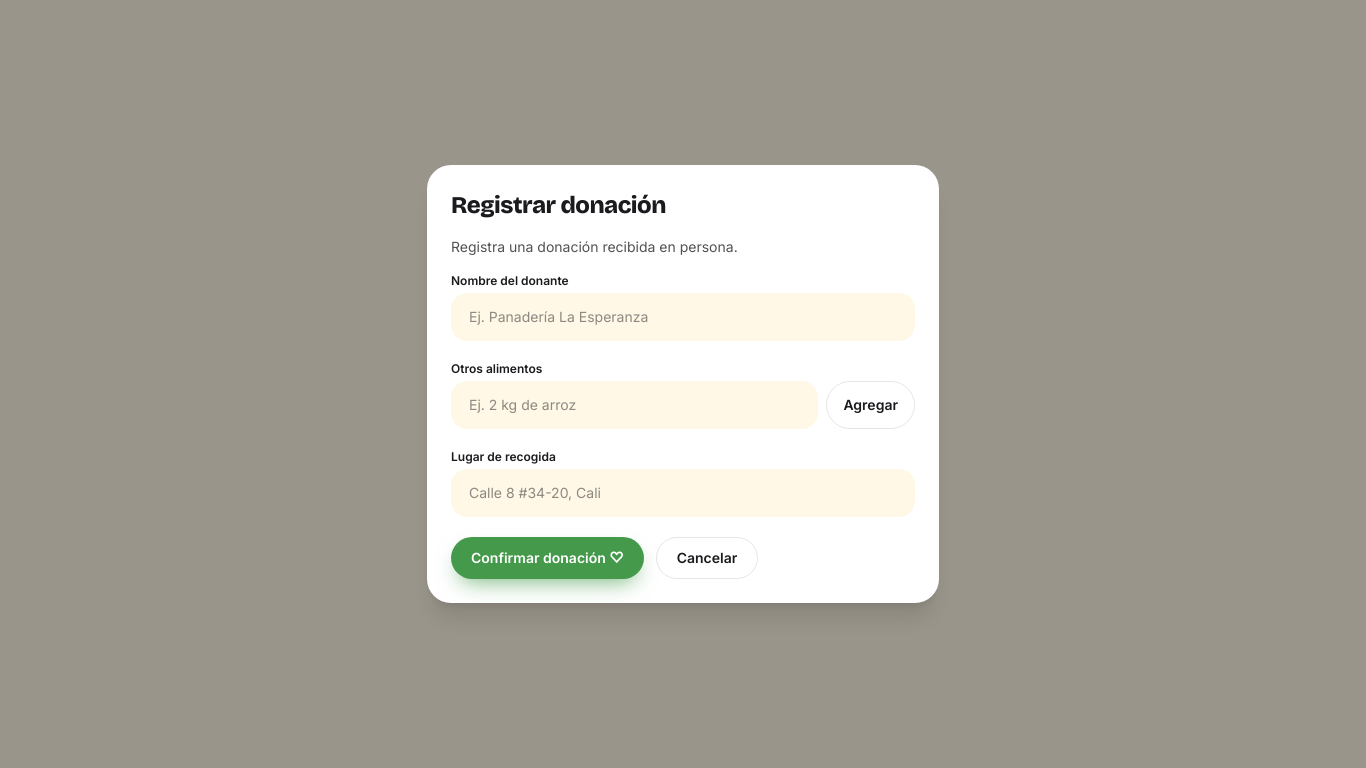
Test: submits the donation with the donor name, shows the toast and closes
Type "Ana" into the field labelled "Nombre del donante" at point(683, 317), box [451,293,915,341]
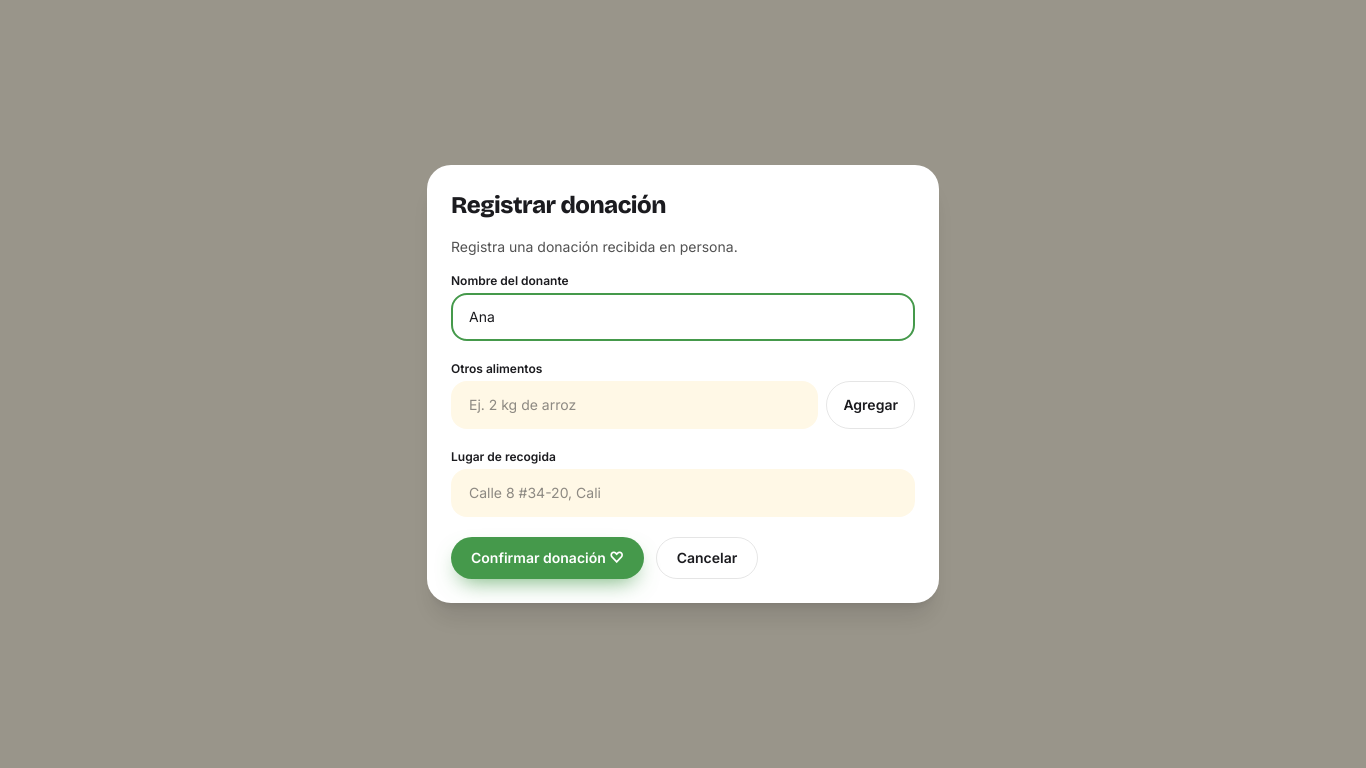
Type "Arroz" into the field labelled "Otros alimentos" at point(635, 405), box [451,381,818,429]
Then press Enter
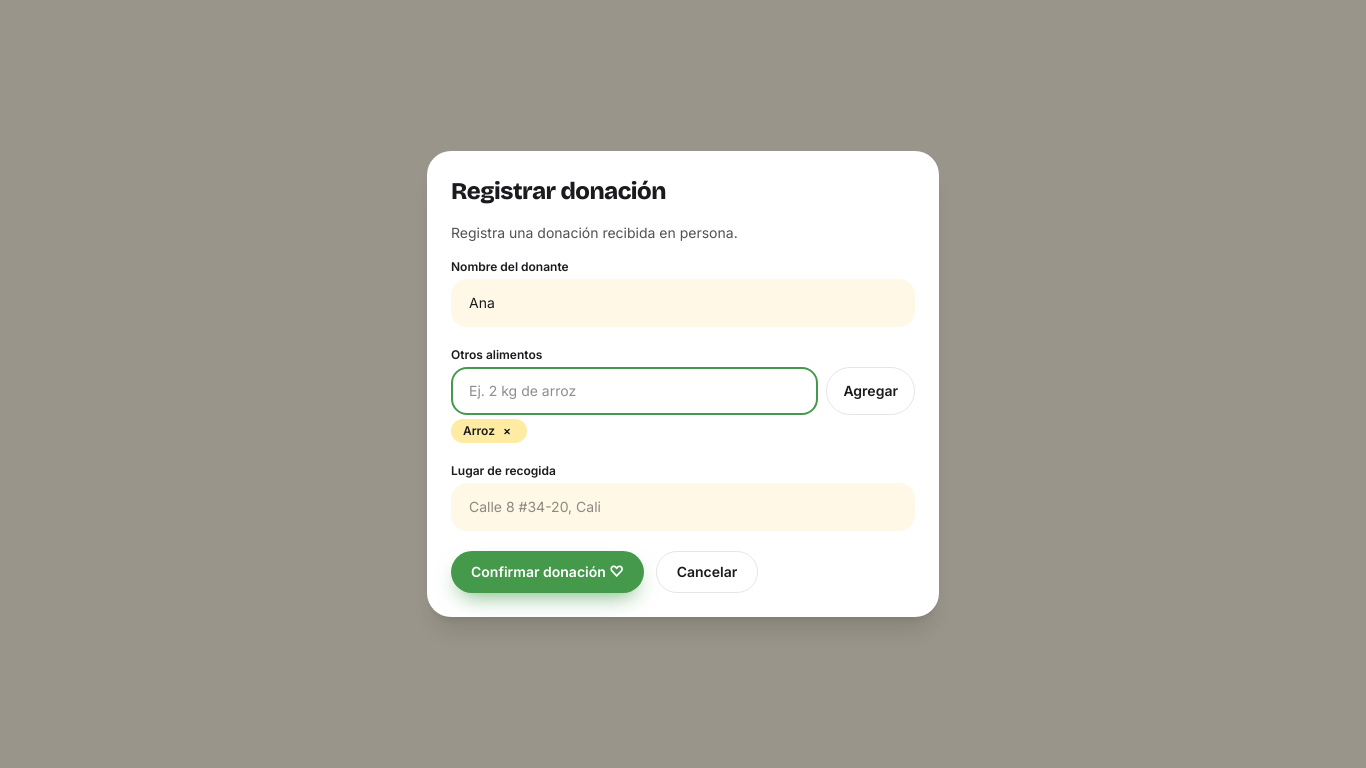
Type "Cali" into the field labelled "Lugar de recogida" at point(683, 507), box [451,483,915,531]
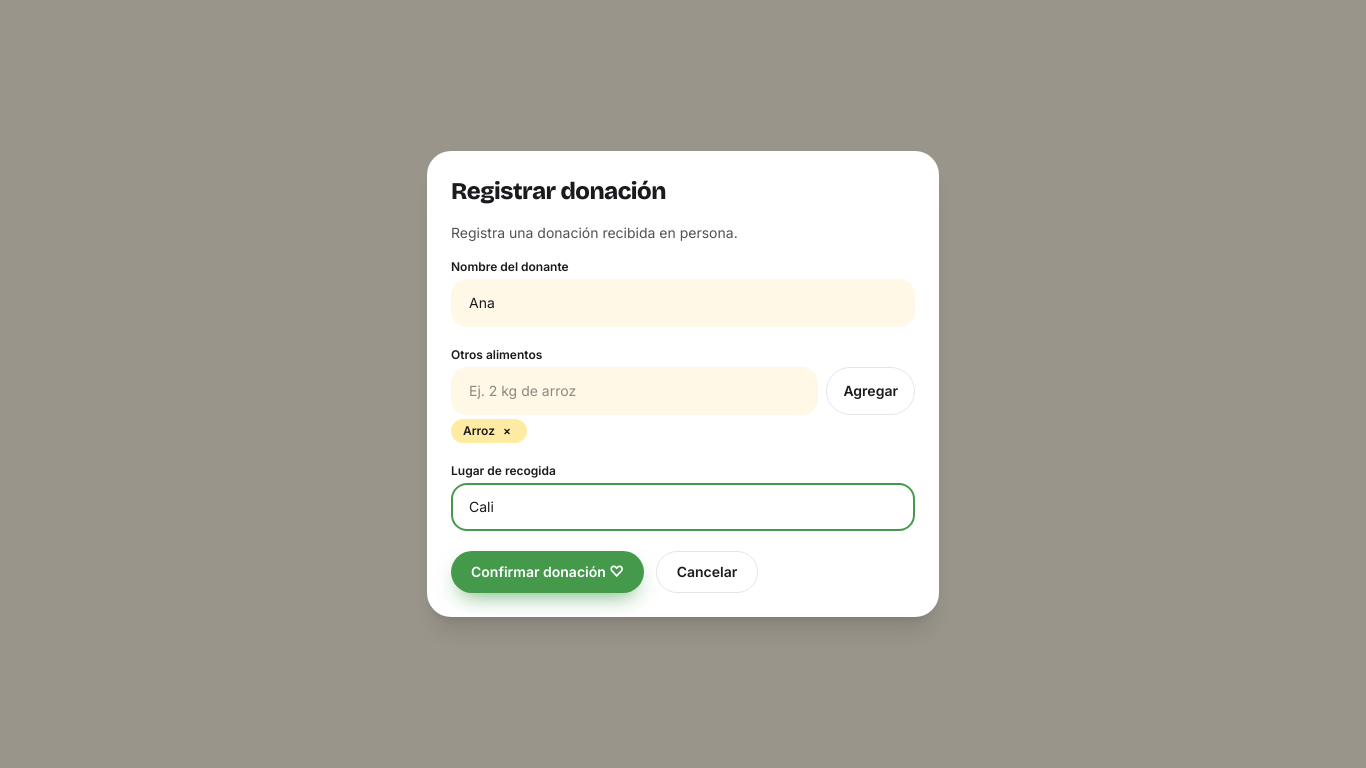
Click the button "Confirmar donación ♡" at point(547, 572), box [451,551,644,593]
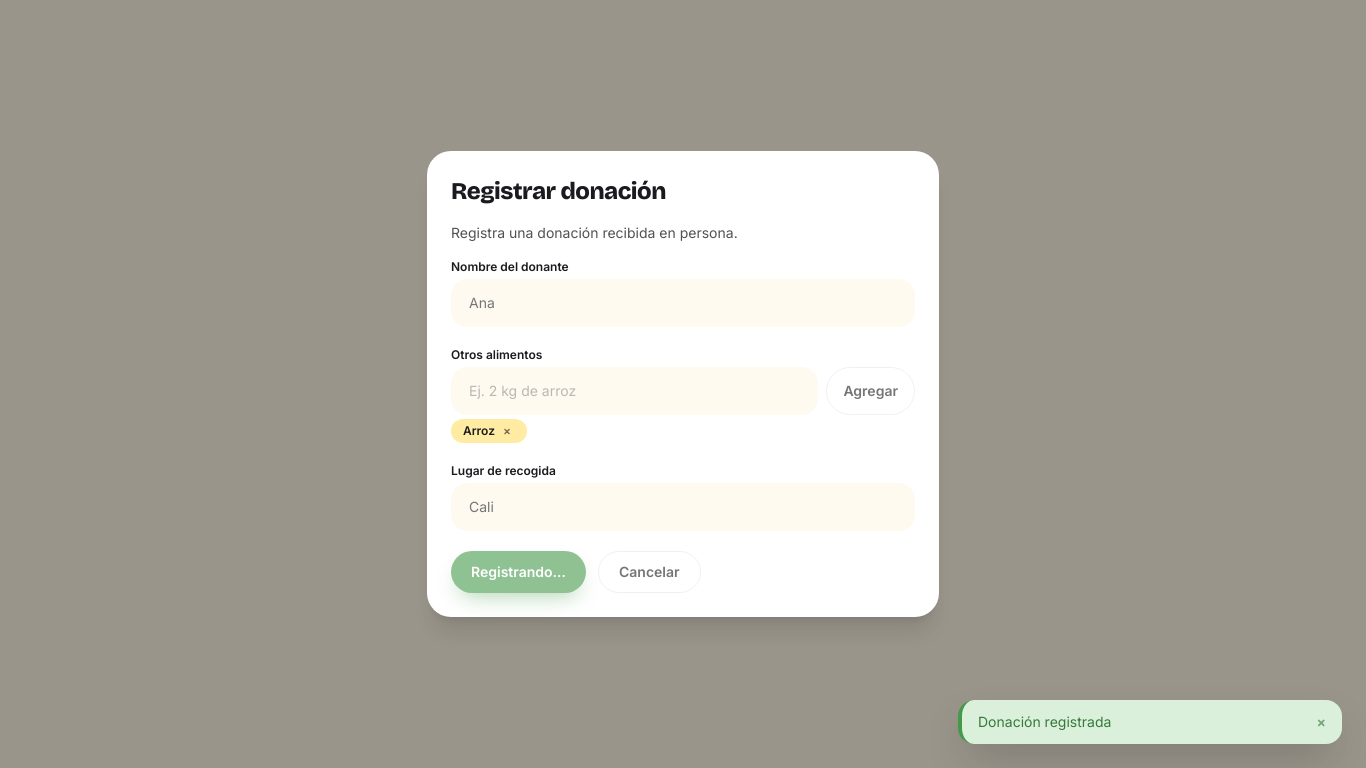
Check: the text "Donación registrada" is shown, box [978,713,1111,730]
